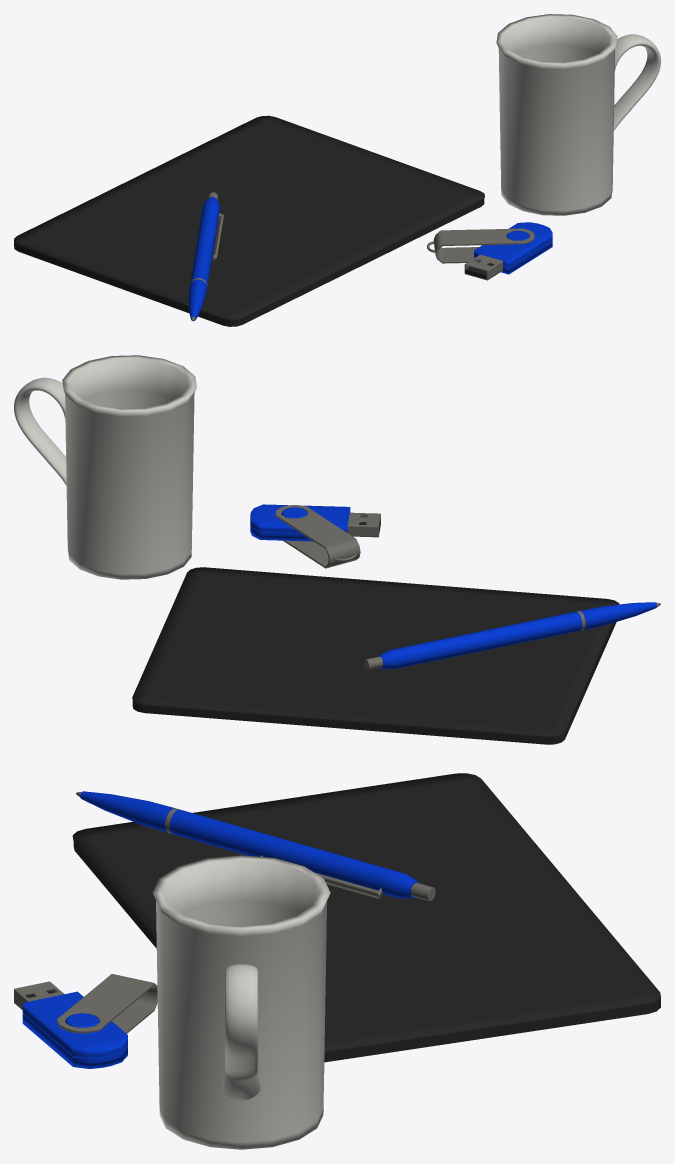
File: Deskset.dae
3 renders of one model, top to bottom at view 1: azimuth 30°, elevation 25°; view 2: azimuth 150°, elevation 25°; view 3: azimuth 270°, elevation 25°, orthographic. The views are drawn at different scales.
Visible parts, largest first — view 1: Circle_004, Circle_003, Circle_005, Circle_001, Cube_003, NurbsPath_001, Cube, Cube_001; view 2: Circle_004, Circle_003, Circle_001, Circle_005, Cube_003, NurbsPath_001, Cube, Cube_001; view 3: Circle_004, Circle_003, Circle_001, NurbsPath_001, Cube, Circle_005, Cube_003, Cube_001.
Boxes of the visible parts, box(x1,y1,x2,y2) form: Circle_004: box(14, 115, 484, 320); Circle_003: box(496, 14, 617, 215); Circle_005: box(14, 198, 484, 326); Circle_001: box(188, 192, 223, 321); Cube_003: box(433, 228, 534, 263); NurbsPath_001: box(613, 34, 660, 130); Cube: box(474, 222, 552, 274); Cube_001: box(464, 254, 503, 280); Circle_004: box(132, 567, 619, 737); Circle_003: box(62, 355, 196, 579); Circle_001: box(364, 602, 660, 670); Circle_005: box(132, 622, 616, 744); Cube_003: box(275, 505, 360, 568); NurbsPath_001: box(14, 377, 66, 485); Cube: box(250, 504, 350, 541); Cube_001: box(347, 512, 380, 537); Circle_004: box(72, 773, 660, 1052); Circle_003: box(152, 855, 330, 1149); Circle_001: box(76, 791, 435, 901); NurbsPath_001: box(222, 964, 260, 1100); Cube: box(22, 991, 127, 1068); Circle_005: box(73, 842, 660, 1062); Cube_003: box(57, 974, 157, 1033); Cube_001: box(14, 981, 64, 1009).
Size of the model in its own units: 4.17 by 2.83 by 1.07.
